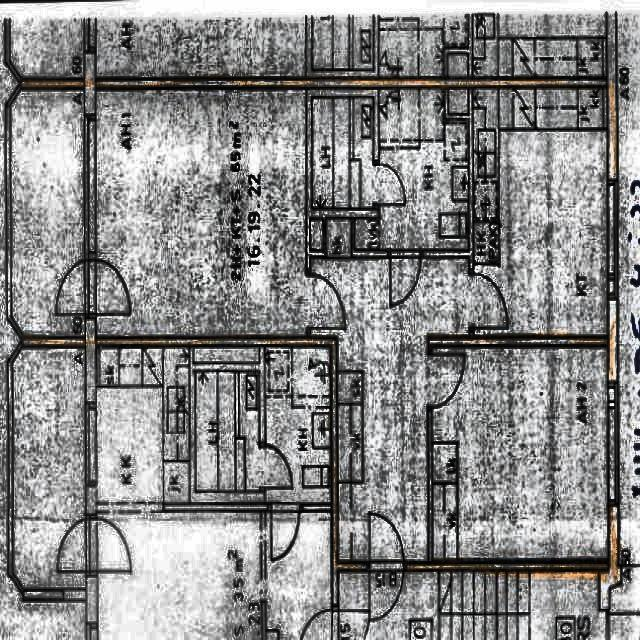room: (96, 91, 306, 333), (433, 349, 608, 557), (474, 89, 606, 334), (96, 346, 189, 503), (265, 346, 332, 503), (196, 371, 259, 490), (312, 98, 374, 207)
